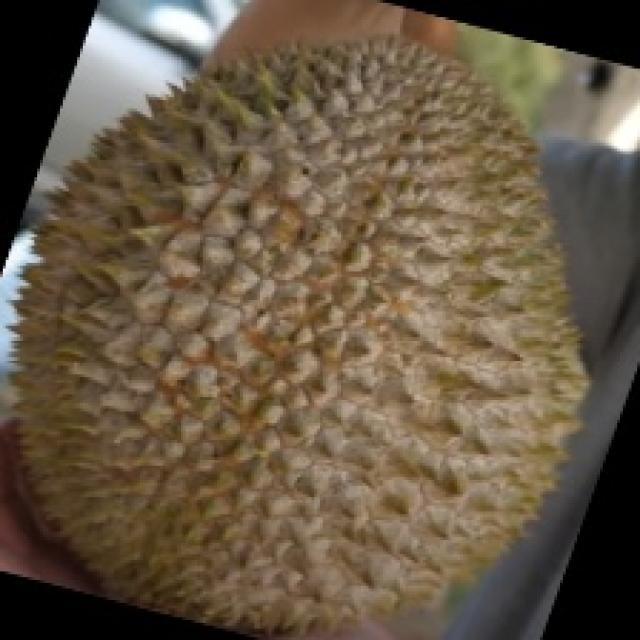d175: (12, 25, 588, 617)
